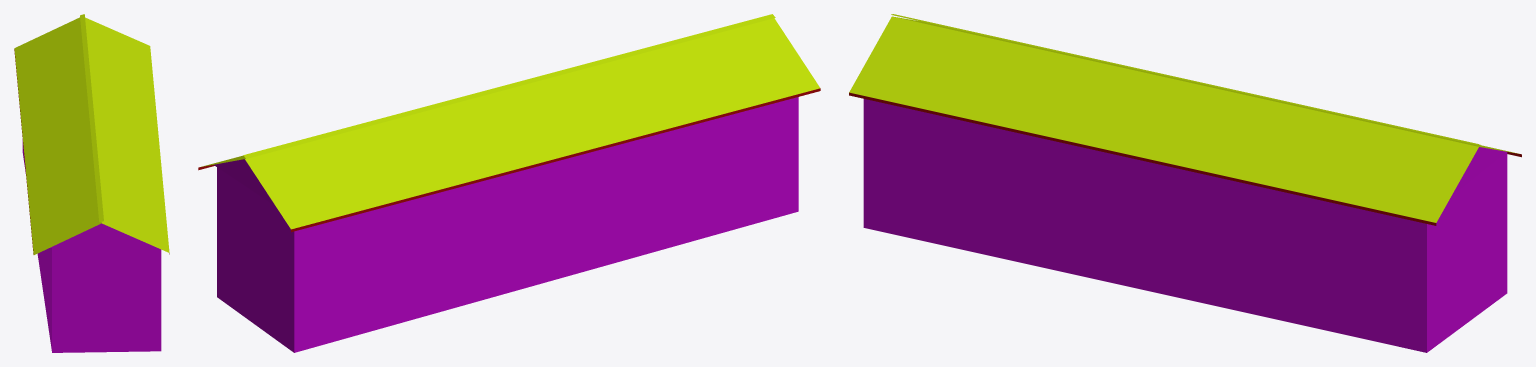
The model's file is mtg_4.glb.
The picture shows the model from 3 angles, left to right: view 1: azimuth 30°, elevation 25°; view 2: azimuth 150°, elevation 25°; view 3: azimuth 270°, elevation 25°; orthographic projection. The views are drawn at different scales.
Parts seen in each view (by area): view 1: mtg_4; view 2: mtg_4; view 3: mtg_4.
Boxes of the visible parts, x1=… form: mtg_4: x1=14, y1=14, x2=169, y2=352; mtg_4: x1=198, y1=14, x2=820, y2=352; mtg_4: x1=849, y1=14, x2=1521, y2=352.
Bounding box in the file's own units: 17.4 × 7.41 × 24.83.
